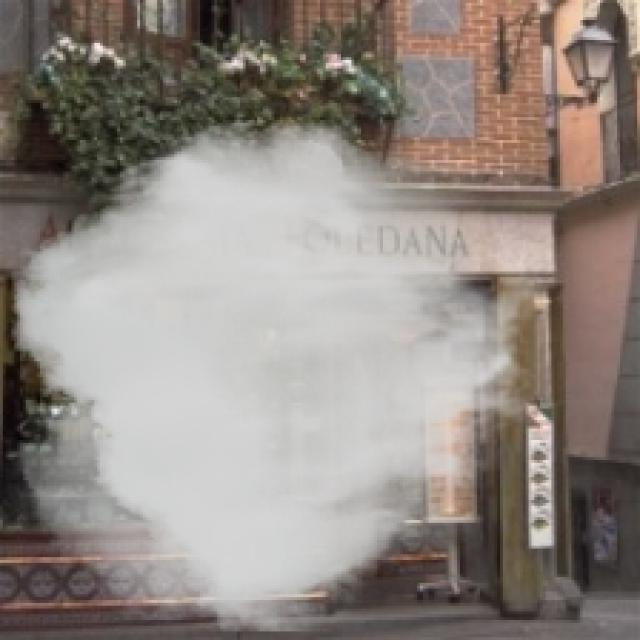smoke: (11, 114, 552, 632)
